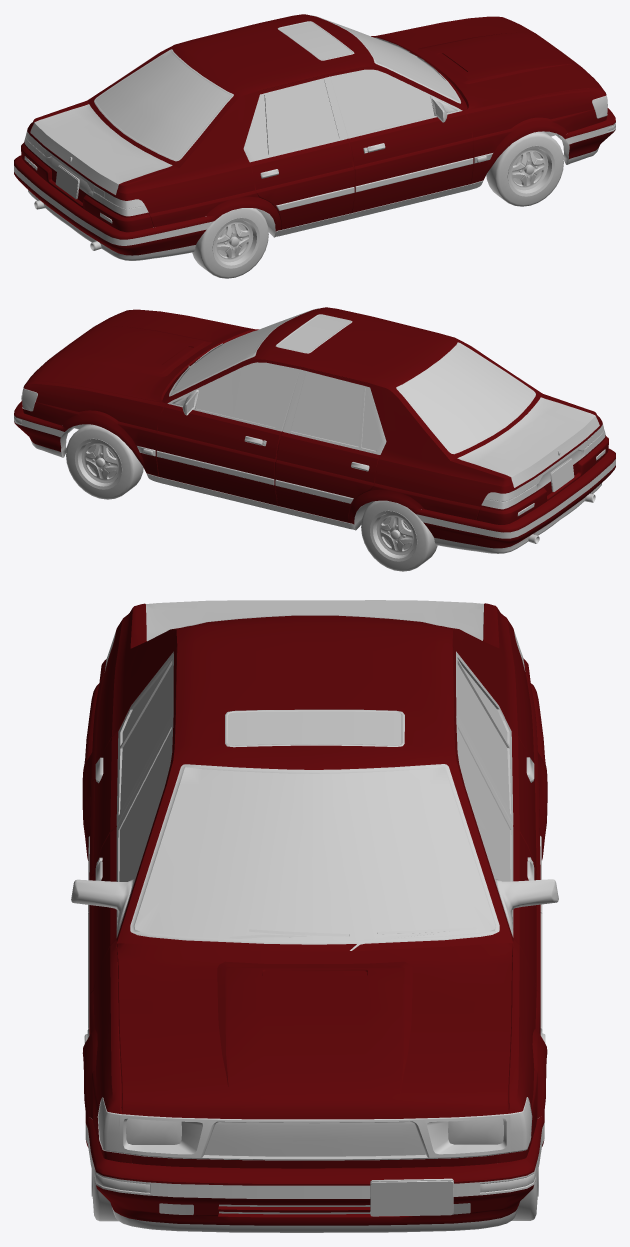
The model's file is Carro.obj.
The picture shows the model from 3 angles, top to bottom: view 1: azimuth 30°, elevation 25°; view 2: azimuth 150°, elevation 25°; view 3: azimuth 270°, elevation 25°; orthographic projection. The views are drawn at different scales.
Parts seen in each view (by area): view 1: kiri86_Body_kiri86_Bodymat_0, kiri86_Hood_kiri86_Bodymat_0, kiri86_Bottom_UCB_BOTTOM_GT_0, kiri86_Rear_window_UCB_Lights_and_Glass_Transperent_0, kiri86_Body_Glass_UCB_Lights_and_Glass_Transperent_0, kiri86_Trunk_door_inner_UCB_BOTTOM_GT_0, kiri86_Wheel_FR_RB1c_Tire_1k_0, kiri86_Glass_Passenger_UCB_Lights_and_Glass_Transperent_0, kiri86_Wheel_RR_RB1c_Tire_1k_0, kiri86_Bumper_rear_kiri86_Bodymat_0, kiri86_bumper_rear_inner_UCB_BOTTOM_GT_0, kiri86_Windshield_UCB_Lights_and_Glass_Transperent_0 (+4 smaller); view 2: kiri86_Body_kiri86_Bodymat_0, kiri86_Hood_kiri86_Bodymat_0, kiri86_Bottom_UCB_BOTTOM_GT_0, kiri86_Rear_window_UCB_Lights_and_Glass_Transperent_0, kiri86_Body_Glass_UCB_Lights_and_Glass_Transperent_0, kiri86_Trunk_door_inner_UCB_BOTTOM_GT_0, kiri86_Wheel_FL_RB1c_Tire_1k_0, kiri86_Glass_Driver_UCB_Lights_and_Glass_Transperent_0, kiri86_Wheel_RL_RB1c_Tire_1k_0, kiri86_Bumper_rear_kiri86_Bodymat_0, kiri86_bumper_rear_inner_UCB_BOTTOM_GT_0, kiri86_Windshield_UCB_Lights_and_Glass_Transperent_0 (+4 smaller); view 3: kiri86_Body_kiri86_Bodymat_0, kiri86_Hood_kiri86_Bodymat_0, kiri86_Windshield_UCB_Lights_and_Glass_Transperent_0, kiri86_Bottom_UCB_BOTTOM_GT_0, kiri86_Bumper_front_kiri86_Bodymat_0, kiri86_Body_Glass_UCB_Lights_and_Glass_Transperent_0, kiri86_Bumper_Front_Inner_UCB_BOTTOM_GT_0, kiri86_Trunk_door_inner_UCB_BOTTOM_GT_0, kiri86_Headlights_Glass_UCB_Lights_and_Glass_Transperent_0, kiri86_Glass_Driver_UCB_Lights_and_Glass_Transperent_0, kiri86_Glass_Passenger_UCB_Lights_and_Glass_Transperent_0, kiri86_Numberplates_Front_Numberplates_Misk_U_0 (+1 smaller).
Boxes of the visible parts, x1,y1,x2,y2 form: kiri86_Body_kiri86_Bodymat_0: (21, 14, 606, 232); kiri86_Hood_kiri86_Bodymat_0: (371, 17, 603, 109); kiri86_Bottom_UCB_BOTTOM_GT_0: (24, 15, 607, 250); kiri86_Rear_window_UCB_Lights_and_Glass_Transperent_0: (95, 50, 231, 159); kiri86_Body_Glass_UCB_Lights_and_Glass_Transperent_0: (248, 22, 352, 157); kiri86_Trunk_door_inner_UCB_BOTTOM_GT_0: (30, 104, 172, 194); kiri86_Wheel_FR_RB1c_Tire_1k_0: (486, 131, 563, 206); kiri86_Glass_Passenger_UCB_Lights_and_Glass_Transperent_0: (336, 71, 434, 134); kiri86_Wheel_RR_RB1c_Tire_1k_0: (192, 208, 268, 278); kiri86_Bumper_rear_kiri86_Bodymat_0: (14, 155, 221, 255); kiri86_bumper_rear_inner_UCB_BOTTOM_GT_0: (14, 166, 213, 260); kiri86_Windshield_UCB_Lights_and_Glass_Transperent_0: (312, 15, 458, 101); kiri86_Body_kiri86_Bodymat_0: (23, 307, 608, 524); kiri86_Hood_kiri86_Bodymat_0: (26, 310, 258, 402); kiri86_Bottom_UCB_BOTTOM_GT_0: (22, 308, 605, 543); kiri86_Rear_window_UCB_Lights_and_Glass_Transperent_0: (398, 344, 534, 452); kiri86_Body_Glass_UCB_Lights_and_Glass_Transperent_0: (277, 315, 381, 450); kiri86_Trunk_door_inner_UCB_BOTTOM_GT_0: (457, 397, 599, 487); kiri86_Wheel_FL_RB1c_Tire_1k_0: (66, 424, 143, 499); kiri86_Glass_Driver_UCB_Lights_and_Glass_Transperent_0: (195, 364, 293, 427); kiri86_Wheel_RL_RB1c_Tire_1k_0: (361, 500, 437, 571); kiri86_Bumper_rear_kiri86_Bodymat_0: (407, 448, 615, 548); kiri86_bumper_rear_inner_UCB_BOTTOM_GT_0: (416, 459, 615, 553); kiri86_Windshield_UCB_Lights_and_Glass_Transperent_0: (171, 308, 317, 394); kiri86_Body_kiri86_Bodymat_0: (82, 603, 547, 1168); kiri86_Hood_kiri86_Bodymat_0: (117, 943, 512, 1119); kiri86_Windshield_UCB_Lights_and_Glass_Transperent_0: (134, 767, 495, 940); kiri86_Bottom_UCB_BOTTOM_GT_0: (71, 615, 558, 1160); kiri86_Bumper_front_kiri86_Bodymat_0: (85, 1112, 544, 1225); kiri86_Body_Glass_UCB_Lights_and_Glass_Transperent_0: (120, 664, 509, 812); kiri86_Bumper_Front_Inner_UCB_BOTTOM_GT_0: (85, 1117, 544, 1232); kiri86_Trunk_door_inner_UCB_BOTTOM_GT_0: (146, 600, 483, 641); kiri86_Headlights_Glass_UCB_Lights_and_Glass_Transperent_0: (98, 1099, 531, 1151); kiri86_Glass_Driver_UCB_Lights_and_Glass_Transperent_0: (458, 729, 510, 881); kiri86_Glass_Passenger_UCB_Lights_and_Glass_Transperent_0: (119, 729, 171, 881); kiri86_Numberplates_Front_Numberplates_Misk_U_0: (370, 1180, 453, 1216).
Bounding box in the file's own units: 4.31 × 1.32 × 1.76.
